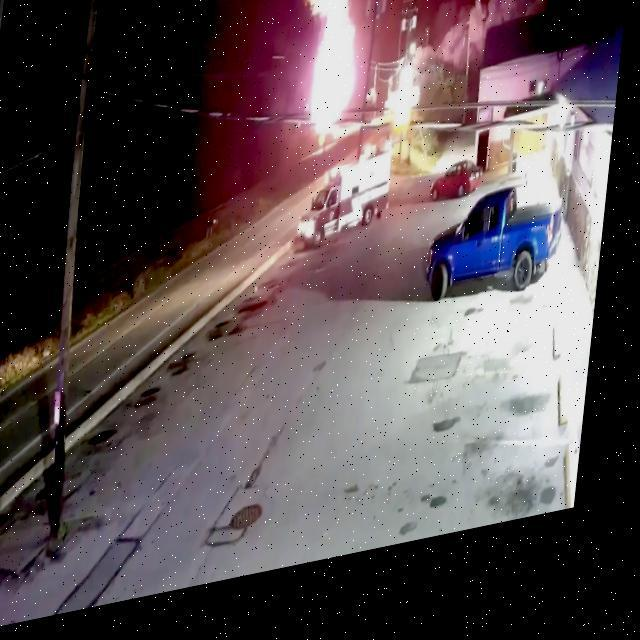Fire: (294, 0, 380, 142)
